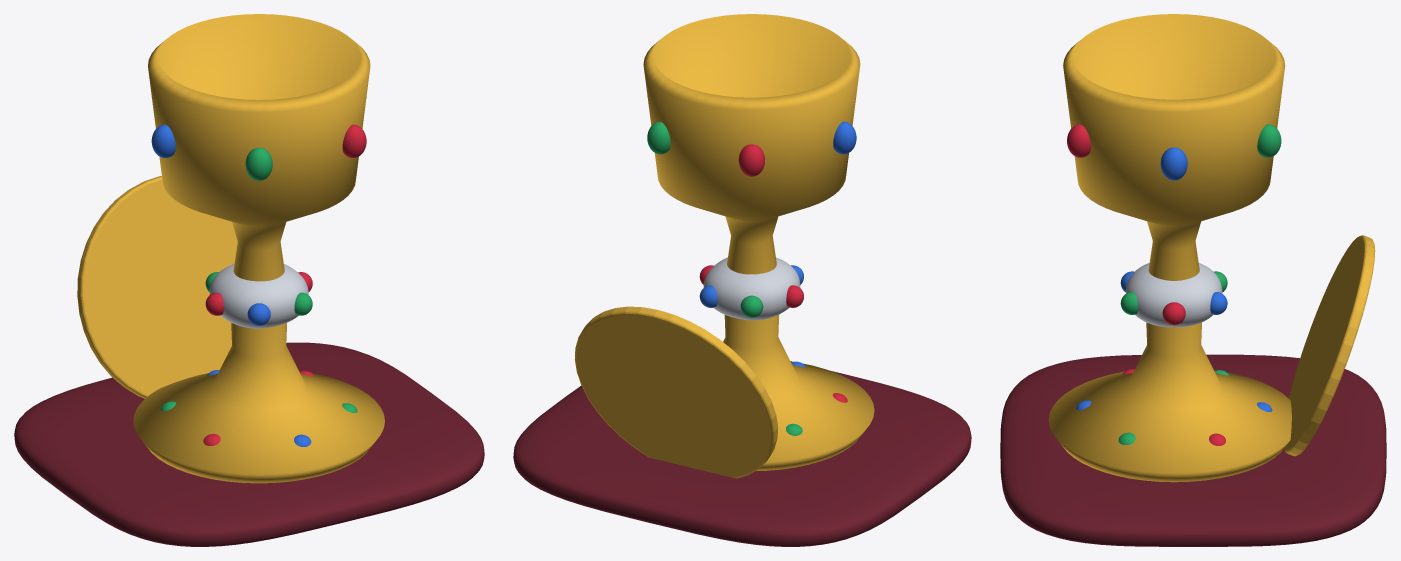
The model's file is caliz.glb.
The picture shows the model from 3 angles, left to right: view 1: azimuth 30°, elevation 25°; view 2: azimuth 150°, elevation 25°; view 3: azimuth 270°, elevation 25°; orthographic projection. The views are drawn at different scales.
Visible parts, largest first — view 1: caliz, pano, patena, nudo, piedra4, piedra5, piedra3; view 2: caliz, pano, patena, nudo, piedra2, piedra1, piedra3; view 3: caliz, pano, patena, nudo, piedra0, piedra1, piedra5.
Boxes of the visible parts, bbox=[...] form: caliz: bbox=[133, 14, 384, 483]; pano: bbox=[14, 342, 484, 546]; patena: bbox=[77, 176, 237, 398]; nudo: bbox=[209, 264, 308, 328]; piedra4: bbox=[245, 147, 272, 180]; piedra5: bbox=[342, 124, 366, 157]; piedra3: bbox=[151, 124, 175, 157]; caliz: bbox=[643, 14, 874, 470]; pano: bbox=[513, 361, 971, 546]; patena: bbox=[574, 306, 777, 478]; nudo: bbox=[703, 257, 800, 320]; piedra2: bbox=[738, 144, 764, 176]; piedra1: bbox=[647, 121, 670, 154]; piedra3: bbox=[833, 121, 856, 154]; caliz: bbox=[1048, 14, 1291, 482]; pano: bbox=[1000, 354, 1386, 546]; patena: bbox=[1284, 235, 1375, 456]; nudo: bbox=[1126, 263, 1222, 327]; piedra0: bbox=[1160, 147, 1187, 180]; piedra1: bbox=[1257, 124, 1281, 157]; piedra5: bbox=[1067, 124, 1090, 157].
Size of the model in its own units: 0.44 by 0.47 by 0.4.
